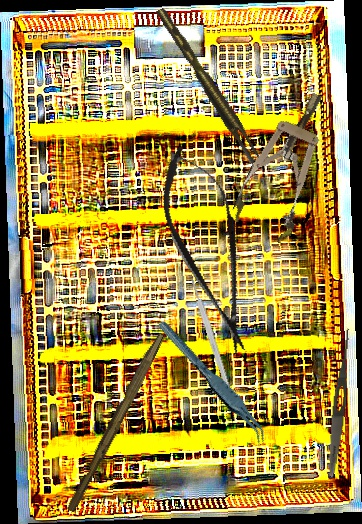Dressing Forceps: (325, 325, 354, 478)
Micro Scissor: (147, 138, 272, 361)
Scalpel Handle: (65, 329, 166, 515), (189, 277, 234, 398)
Speculum: (227, 82, 348, 246)
Tissue Forceps: (156, 2, 262, 168), (156, 308, 272, 457)
